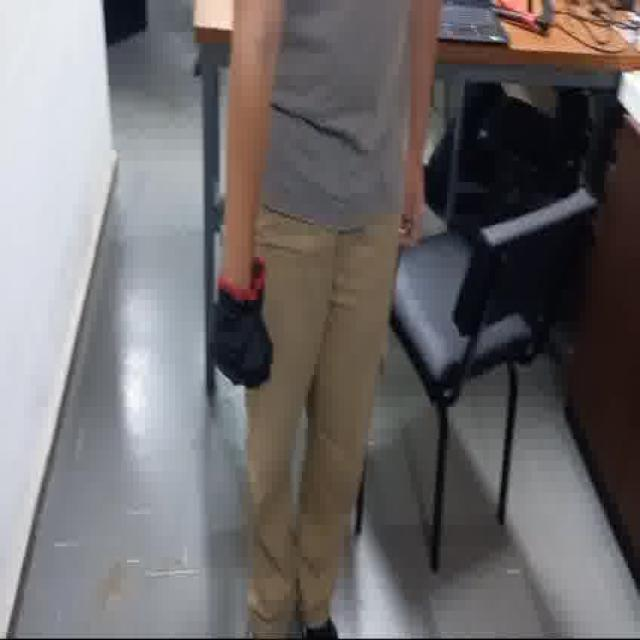Gloves: (200, 266, 291, 396)
